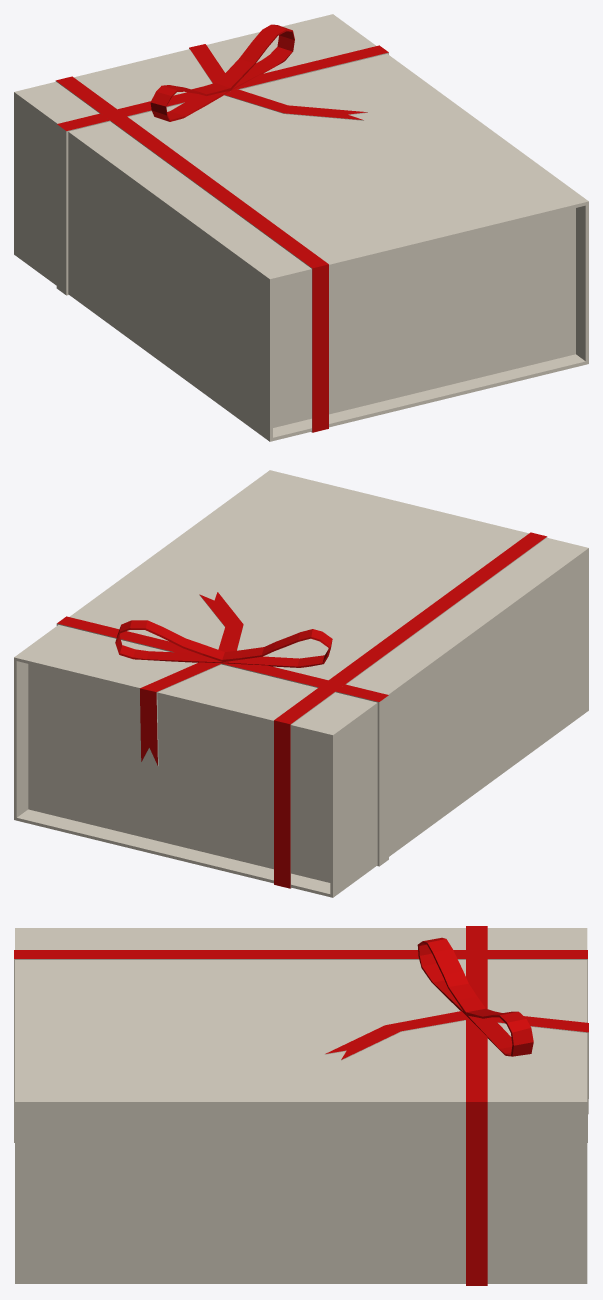
The model's file is dresses.fbx.
3 renders of one model, top to bottom at view 1: azimuth 30°, elevation 25°; view 2: azimuth 150°, elevation 25°; view 3: azimuth 270°, elevation 25°, orthographic. The views are drawn at different scales.
Parts seen in each view (by area): view 1: dresses; view 2: dresses; view 3: dresses.
Part boxes in pixels (x1,y1,x2,y2): dresses: [14, 14, 588, 441]; dresses: [14, 470, 588, 897]; dresses: [14, 926, 588, 1285].
Size of the model in its own units: 154 by 89.21 by 213.
